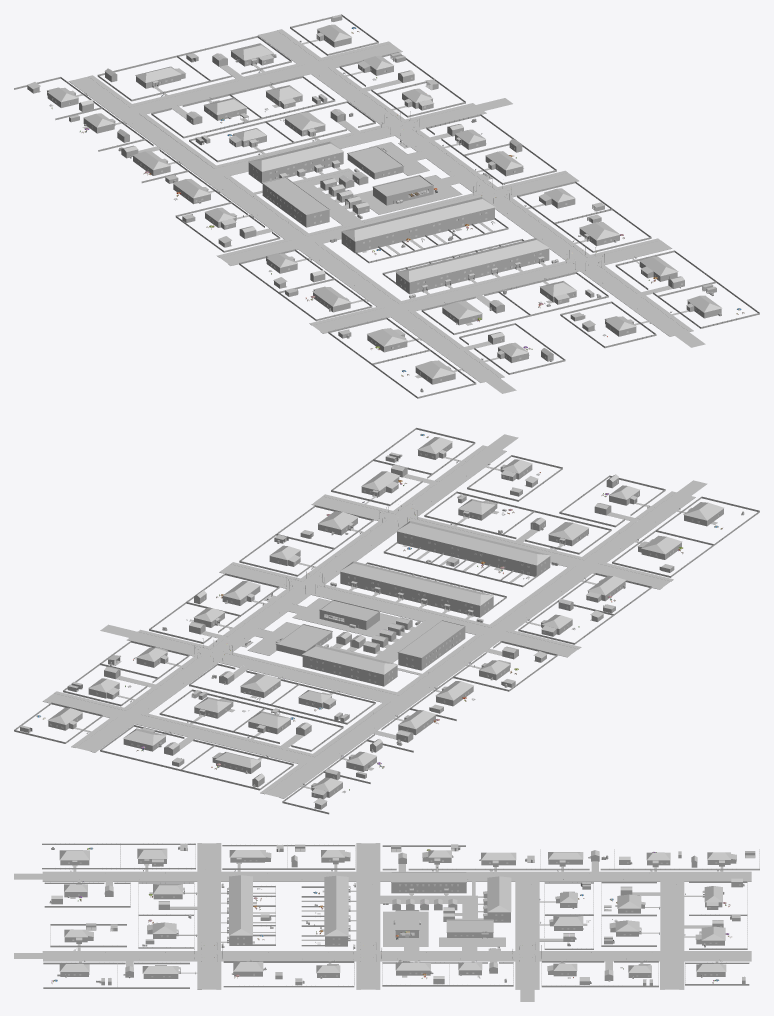
Rendered from Dampil.fbx.
3 renders of one model, top to bottom at view 1: azimuth 30°, elevation 25°; view 2: azimuth 150°, elevation 25°; view 3: azimuth 270°, elevation 25°, orthographic. The views are drawn at different scales.
Parts seen in each view (by area): view 1: Prichal.002, RoofBilding.002, RoofBilding.005, BordurV.020, BildingB.003, BordurV.001, BildingB.012, BordurV.003, BordurV.002, BordurV.061, RoofBilding.014, RoofB.001 (+11 smaller); view 2: Prichal.002, RoofBilding.005, RoofBilding.002, BordurV.020, BildingB.012, BildingB.003, BordurV.001, BordurV.003, BordurV.002, BordurV.061, RoofBilding.014, BildingA.023 (+11 smaller); view 3: Prichal.002, RoofBilding.002, BordurV.001, RoofBilding.005, BordurV.020, BordurV.002, BordurV.061, BordurV.003, RoofBilding.014, RoofB.001, BordurV.006, BordurV.051 (+31 smaller).
Part boxes in pixels (x1,y1,x2,y2): Prichal.002: (74,30,705,393); RoofBilding.002: (341,197,495,241); RoofBilding.005: (395,238,549,282); BordurV.020: (139,70,388,168); BildingB.003: (341,207,494,252); BordurV.001: (223,132,480,236); BildingB.012: (396,248,549,294); BordurV.003: (408,268,674,378); BordurV.002: (315,200,573,304); BordurV.061: (68,80,291,257); RoofBilding.014: (248,141,343,171); RoofB.001: (262,177,330,215); Prichal.002: (45,434,707,797); RoofBilding.005: (396,521,550,565); RoofBilding.002: (340,561,493,605); BordurV.020: (140,659,390,756); BildingB.012: (397,531,550,576); BildingB.003: (340,571,493,617); BordurV.001: (225,591,482,695); BordurV.003: (410,450,676,559); BordurV.002: (317,523,575,627); BordurV.061: (279,637,569,798); RoofBilding.014: (302,644,397,674); BildingA.023: (302,655,397,686); Prichal.002: (14,843,751,1001); RoofBilding.002: (324,875,348,936); BordurV.001: (375,879,520,952); RoofBilding.005: (229,875,252,935); BordurV.020: (534,879,664,952); BordurV.002: (216,879,361,952); BordurV.061: (375,843,751,873); BordurV.003: (42,879,201,952); RoofBilding.014: (487,876,511,912); RoofB.001: (391,872,466,882); BordurV.006: (216,843,361,873); BordurV.051: (375,959,520,989).
Bounding box in the file's own units: 25966 × 1136 × 51574.
